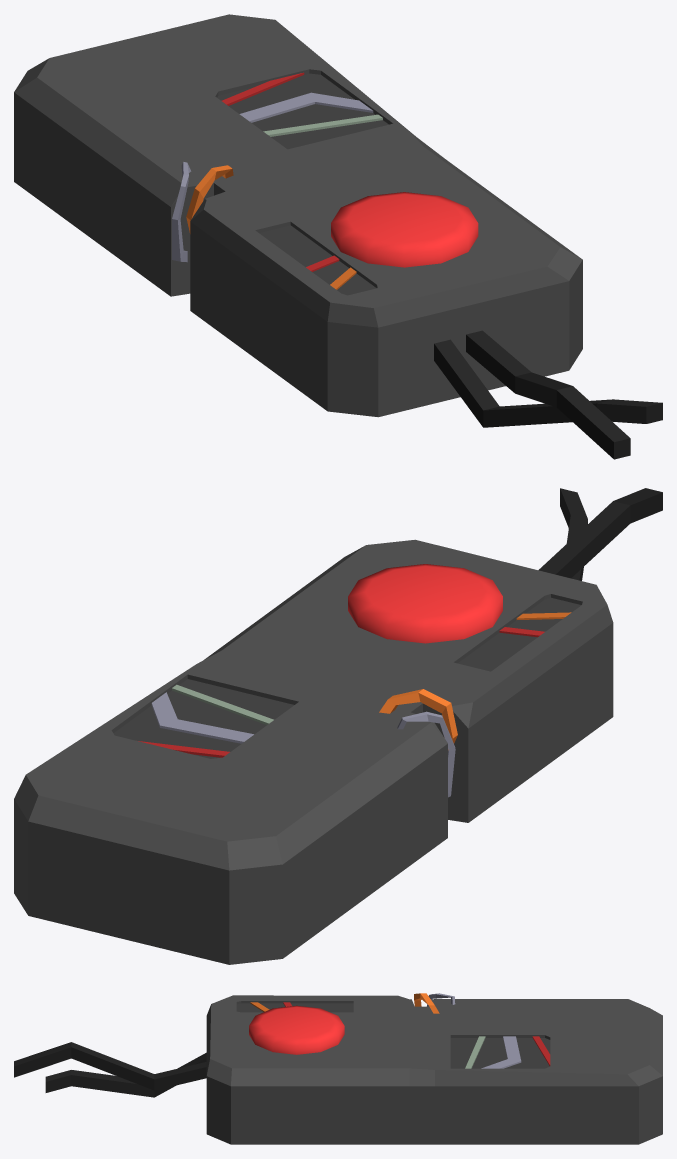
File: engineerRemote.fbx
The picture shows the model from 3 angles, top to bottom: view 1: azimuth 30°, elevation 25°; view 2: azimuth 150°, elevation 25°; view 3: azimuth 270°, elevation 25°; orthographic projection. The views are drawn at different scales.
Parts seen in each view (by area): view 1: Cube; view 2: Cube; view 3: Cube.
Part boxes in pixels (x1,y1,x2,y2): Cube: (14, 14, 662, 459); Cube: (14, 488, 662, 964); Cube: (14, 993, 662, 1144).
Bounding box in the file's own units: 8.09 × 3.74 × 27.1.
